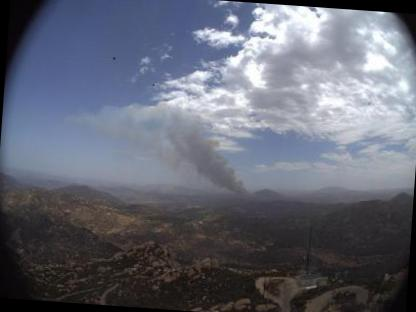Smoke: (56, 93, 275, 206)
